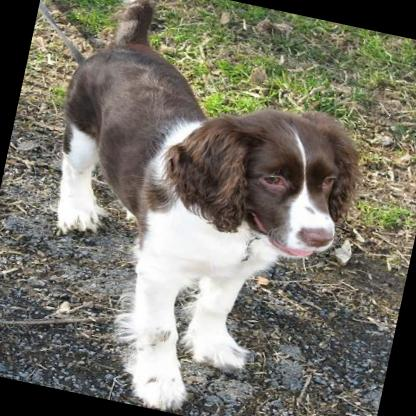English_springer: (1, 0, 396, 416)
